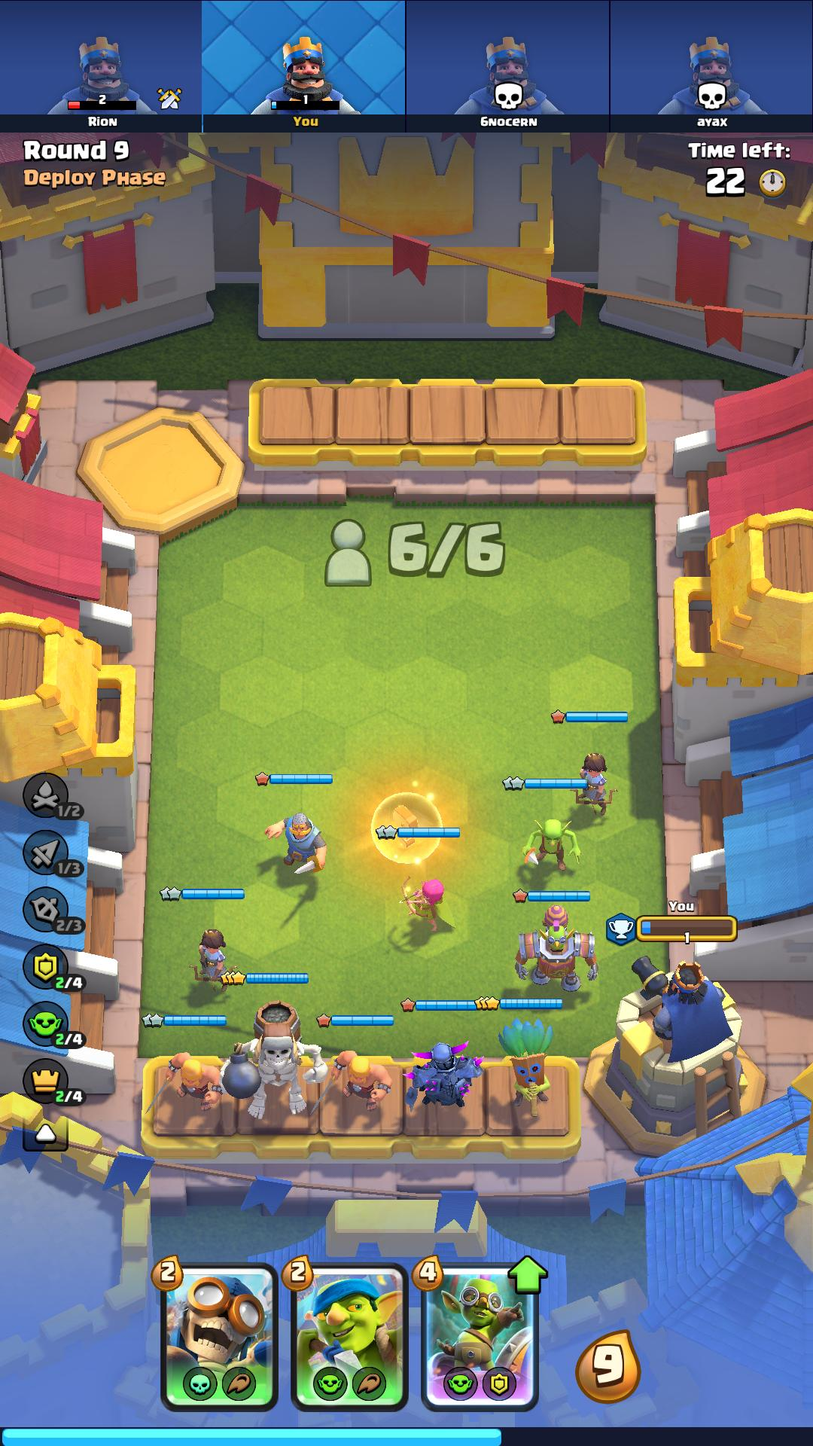archer: (392, 871, 451, 929)
barbarian: (152, 1047, 223, 1116), (325, 1045, 393, 1113)
dart: (497, 1019, 562, 1121)
giant: (224, 999, 332, 1125)
goblin: (518, 815, 584, 876)
hand-bomber: (164, 1263, 275, 1409)
hand-machine: (423, 1266, 533, 1408)
hand-spear: (294, 1266, 407, 1412)
knight: (253, 807, 331, 877)
machine: (513, 905, 601, 993)
orb: (368, 790, 445, 867)
pekka: (401, 1036, 486, 1123)
princess: (568, 749, 617, 817), (188, 925, 237, 987)
upgrade: (507, 1253, 549, 1295)
